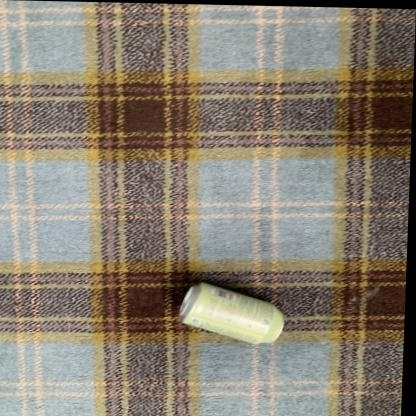trash: (179, 282, 283, 343)
